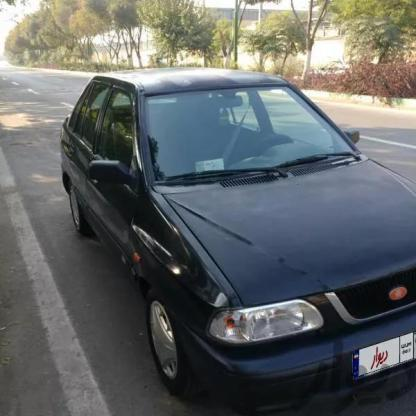Car: (40, 54, 416, 412)
